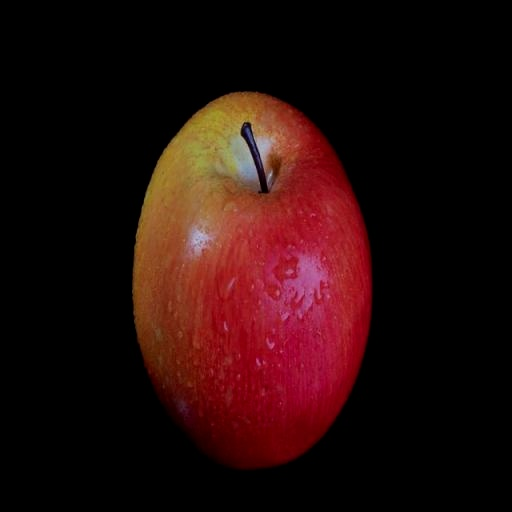fruit: (133, 92, 371, 469)
